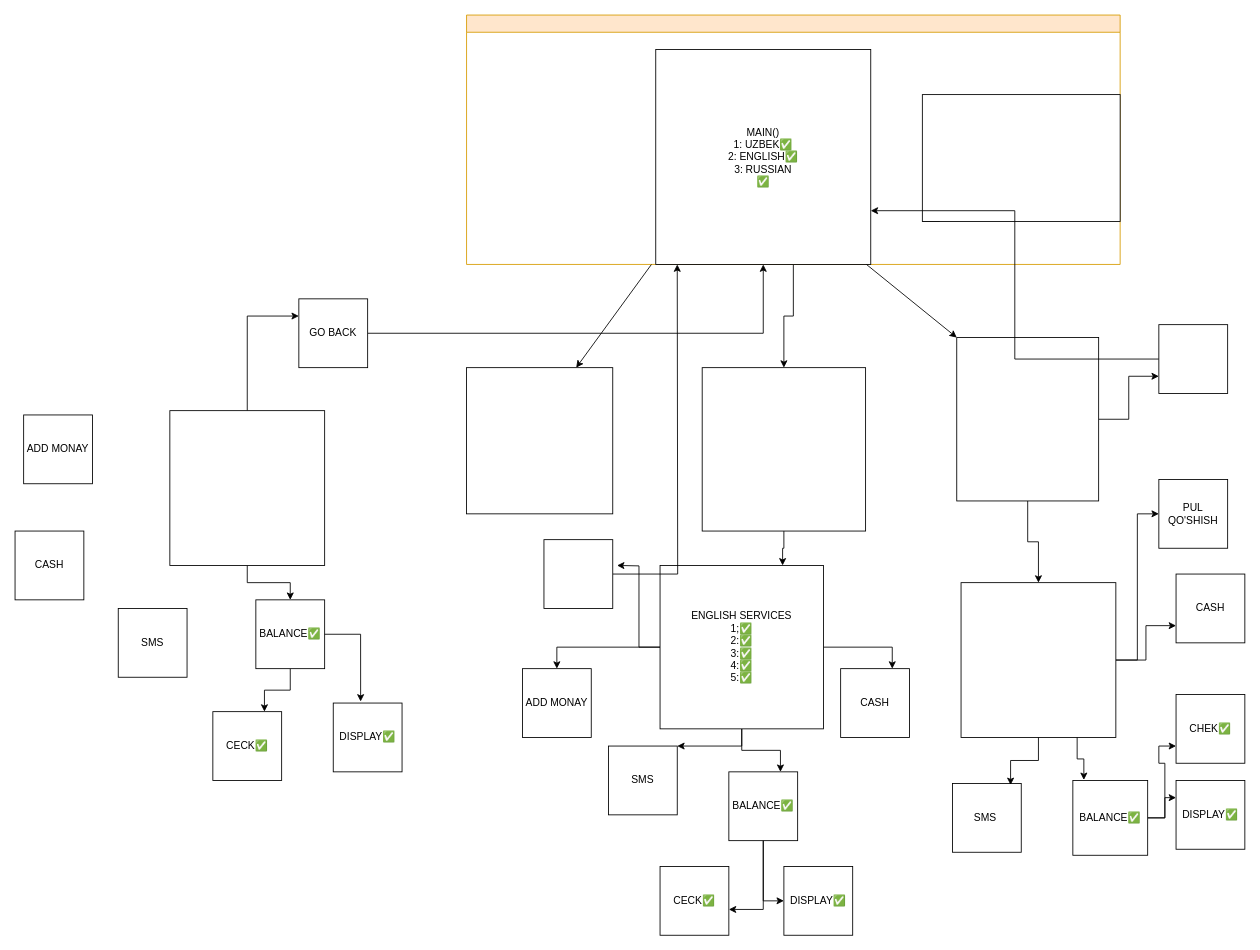
The diagram is 1260 pixels wide and 950 high, and some of its shapes have lost their labels. The shapes that lost their labels are listed below. From the top down, each one's centre as x and y in pixels, then its label:
At point 1020,157: "USER INFO: CARD✅ PASSWORD✅ BALANCE✅".
At point 1193,358: "ORTGA✅".
At point 1027,419: "UZBEK PASSWORD: ✅".
At point 539,440: "RUSSIAN PASSWORD ✅".
At point 783,449: "ENGLISH: PASSWORD: ✅".
At point 247,487: "RUSSIAN SERVICES 1:✅ 2:✅ 3:✅ 4:✅ 5:✅".
At point 578,573: "BACK".
At point 1038,659: "UZBEK SERVISES:✅ 1:✅ 2:✅ 3:✅ 4:✅ 5:✅".
